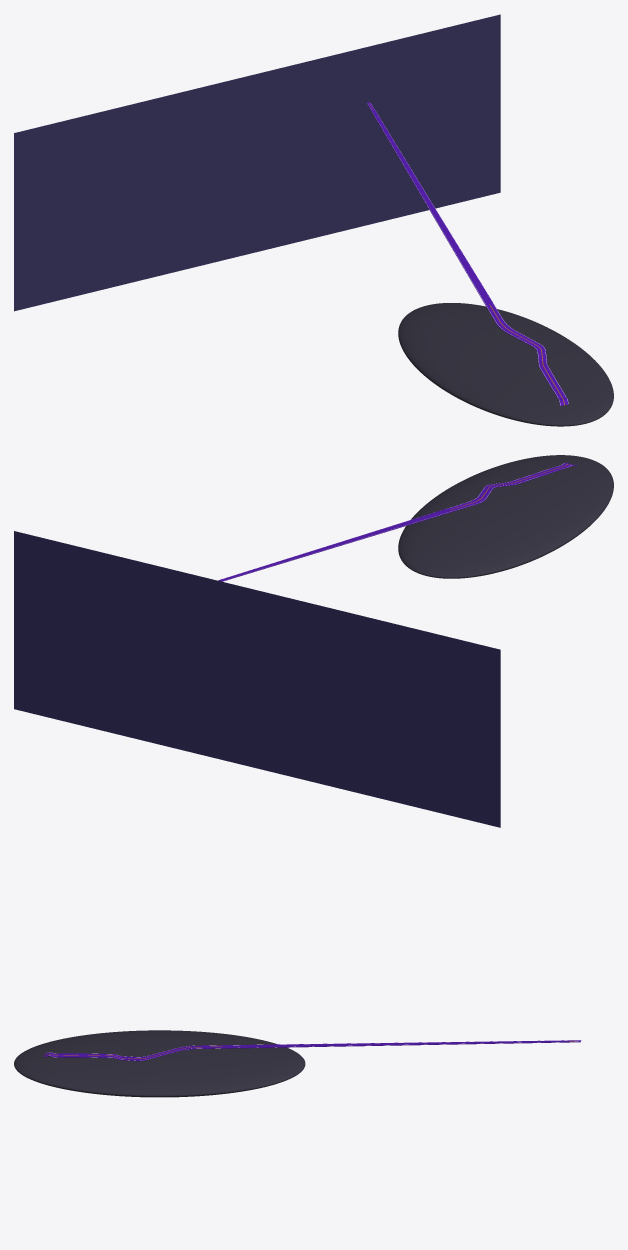
The model's file is banner.glb.
3 renders of one model, top to bottom at view 1: azimuth 30°, elevation 25°; view 2: azimuth 150°, elevation 25°; view 3: azimuth 270°, elevation 25°, orthographic. The views are drawn at different scales.
Parts seen in each view (by area): view 1: 平面, 地面, 公路; view 2: 平面, 地面, 公路; view 3: 地面, 公路.
Part boxes in pixels (left/top/right/bottom): 平面: left=14, top=14, right=500, bottom=311; 地面: left=398, top=303, right=613, bottom=426; 公路: left=367, top=102, right=568, bottom=405; 平面: left=14, top=531, right=500, bottom=827; 地面: left=398, top=455, right=613, bottom=578; 公路: left=218, top=463, right=577, bottom=581; 地面: left=14, top=1030, right=305, bottom=1097; 公路: left=44, top=1040, right=581, bottom=1061.
Size of the model in its own units: 51.84 by 18.14 by 60.64.
